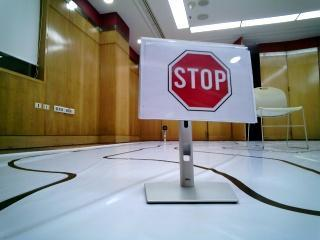stop: (143, 45, 248, 118)
